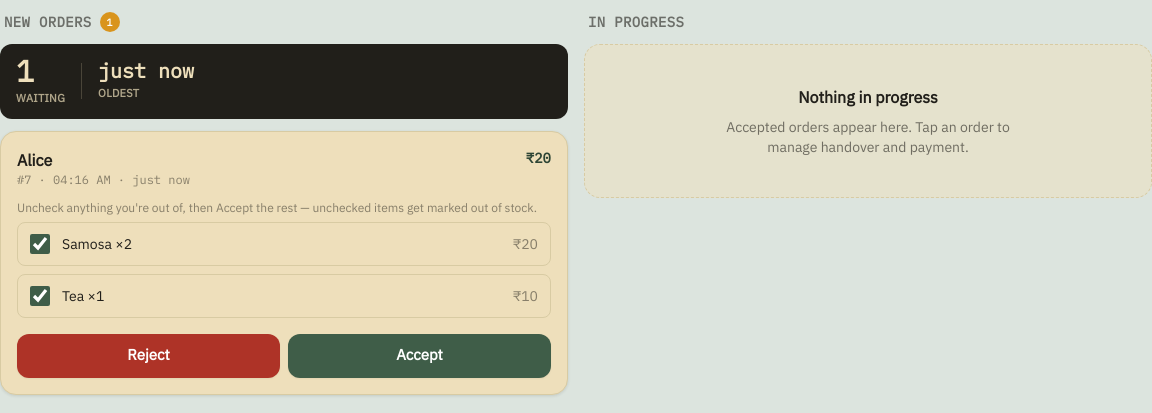
Test case: Shop Accept surfaces stock-update failures (STATUS.md § 9.5 T3) › shows an error toast naming the item, without blocking the order accept
The width and height of the screenshot is (1152, 413).
Check: the text "Samosa ×2" is shown, box [62,234,132,252]
Uncheck the item — Accept then tries to mark it out of stock and reject it.
Click the checkbox labelled "Samosa ×2 ₹20" at (40, 244), box [30,234,50,254]
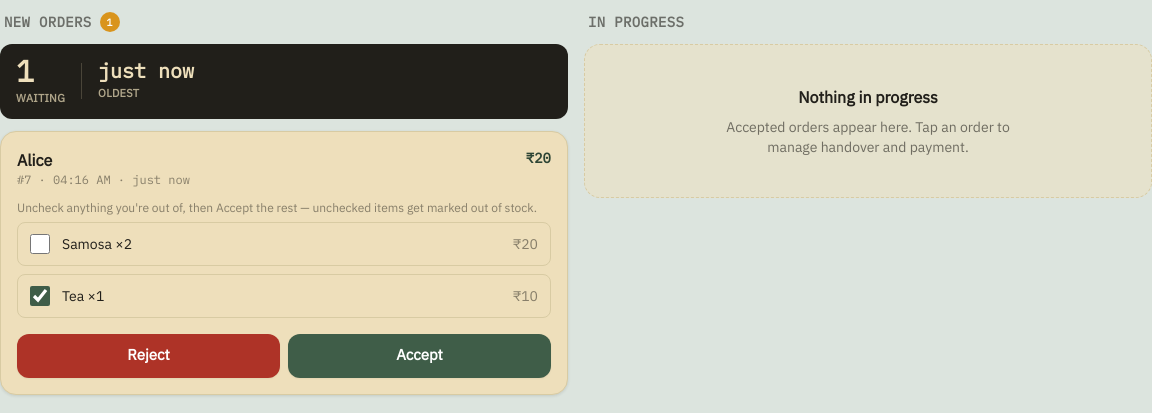
Click the button "Accept" at (420, 356), box [288,334,551,378]
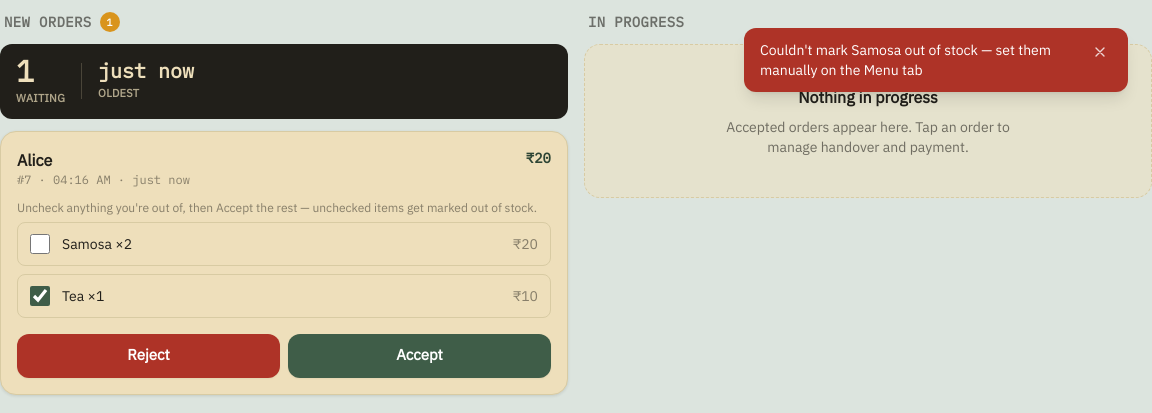
Check: the message shows "Samosa", box [760,41,1051,79]
